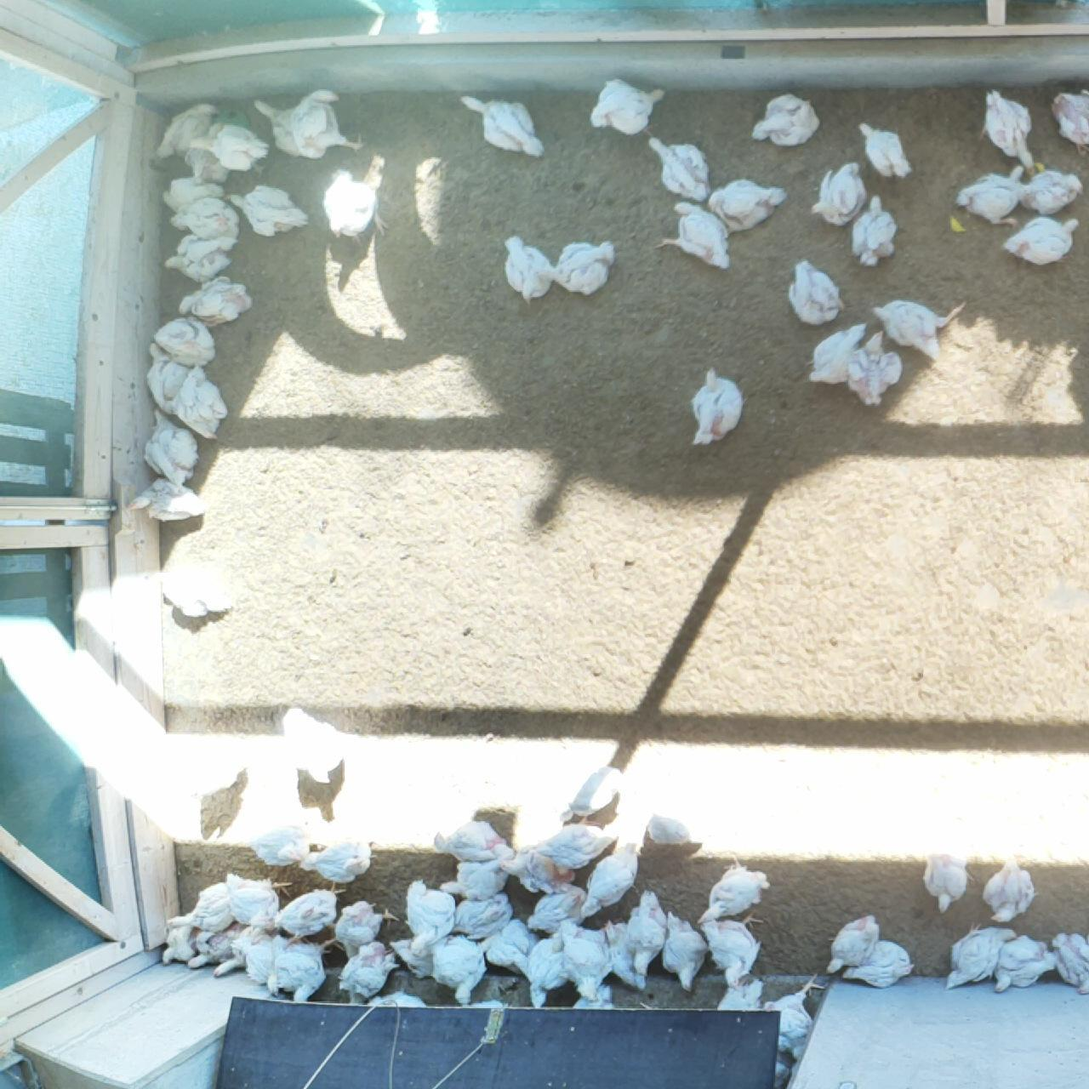chicken: (676, 359, 756, 453), (452, 92, 557, 159), (310, 171, 393, 246), (871, 299, 966, 361), (536, 235, 615, 306), (282, 703, 346, 790), (980, 84, 1039, 177), (784, 255, 852, 334), (657, 203, 736, 270), (294, 87, 363, 163), (578, 840, 642, 920), (700, 853, 772, 924), (943, 921, 1019, 988), (643, 135, 717, 202), (845, 329, 904, 410), (588, 79, 670, 137), (153, 563, 238, 618), (954, 163, 1027, 227), (700, 915, 763, 989), (843, 191, 899, 273), (705, 177, 788, 232), (556, 761, 627, 825), (810, 157, 866, 237), (1002, 213, 1083, 267), (228, 185, 310, 238), (990, 933, 1061, 994), (142, 413, 200, 487), (752, 92, 827, 148), (659, 911, 710, 993), (189, 119, 269, 171), (855, 117, 917, 182), (432, 932, 486, 1005), (276, 935, 333, 1004), (502, 234, 557, 305), (1014, 164, 1088, 216), (824, 909, 882, 975), (273, 885, 345, 938), (807, 324, 869, 385), (157, 101, 221, 160), (178, 277, 255, 326), (178, 738, 249, 791), (403, 880, 453, 954), (301, 836, 378, 884), (561, 927, 613, 998), (922, 850, 977, 917), (335, 898, 395, 959), (140, 342, 187, 419), (626, 888, 668, 974), (181, 366, 228, 442), (127, 479, 207, 523), (842, 940, 916, 987), (983, 856, 1034, 924), (777, 972, 815, 1060), (534, 825, 615, 866), (522, 935, 567, 1008), (500, 851, 576, 894), (340, 945, 394, 1004), (253, 97, 302, 162), (164, 237, 236, 281), (153, 315, 217, 364), (248, 822, 311, 871), (526, 886, 591, 933), (603, 920, 644, 990), (451, 894, 514, 938), (224, 874, 277, 926), (481, 918, 534, 970), (1051, 85, 1089, 156), (170, 200, 239, 238), (440, 860, 505, 900), (1052, 929, 1089, 999), (214, 929, 263, 977), (162, 175, 225, 212), (247, 933, 283, 997), (189, 923, 239, 969), (644, 813, 701, 851), (390, 938, 437, 978), (167, 903, 231, 931), (714, 979, 769, 1011), (180, 149, 229, 184), (190, 882, 232, 920), (160, 925, 198, 966), (367, 992, 435, 1006), (462, 999, 518, 1007), (775, 1059, 792, 1084), (587, 1000, 617, 1009)
